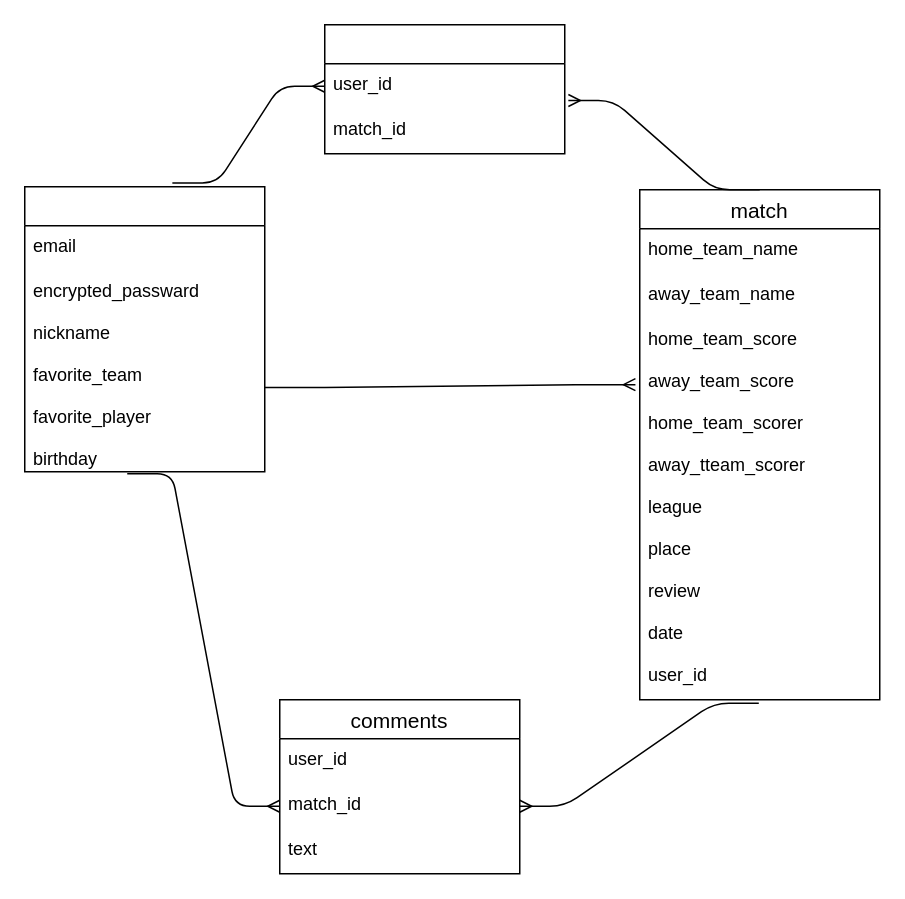
The diagram is 905 pixels wide and 899 high, and some of its shapes have lost their labels. The box of each missing label's shape, as (x1, y1, x2, y2) in pixels:
likes: (323, 23, 565, 154)
users: (23, 185, 265, 472)
